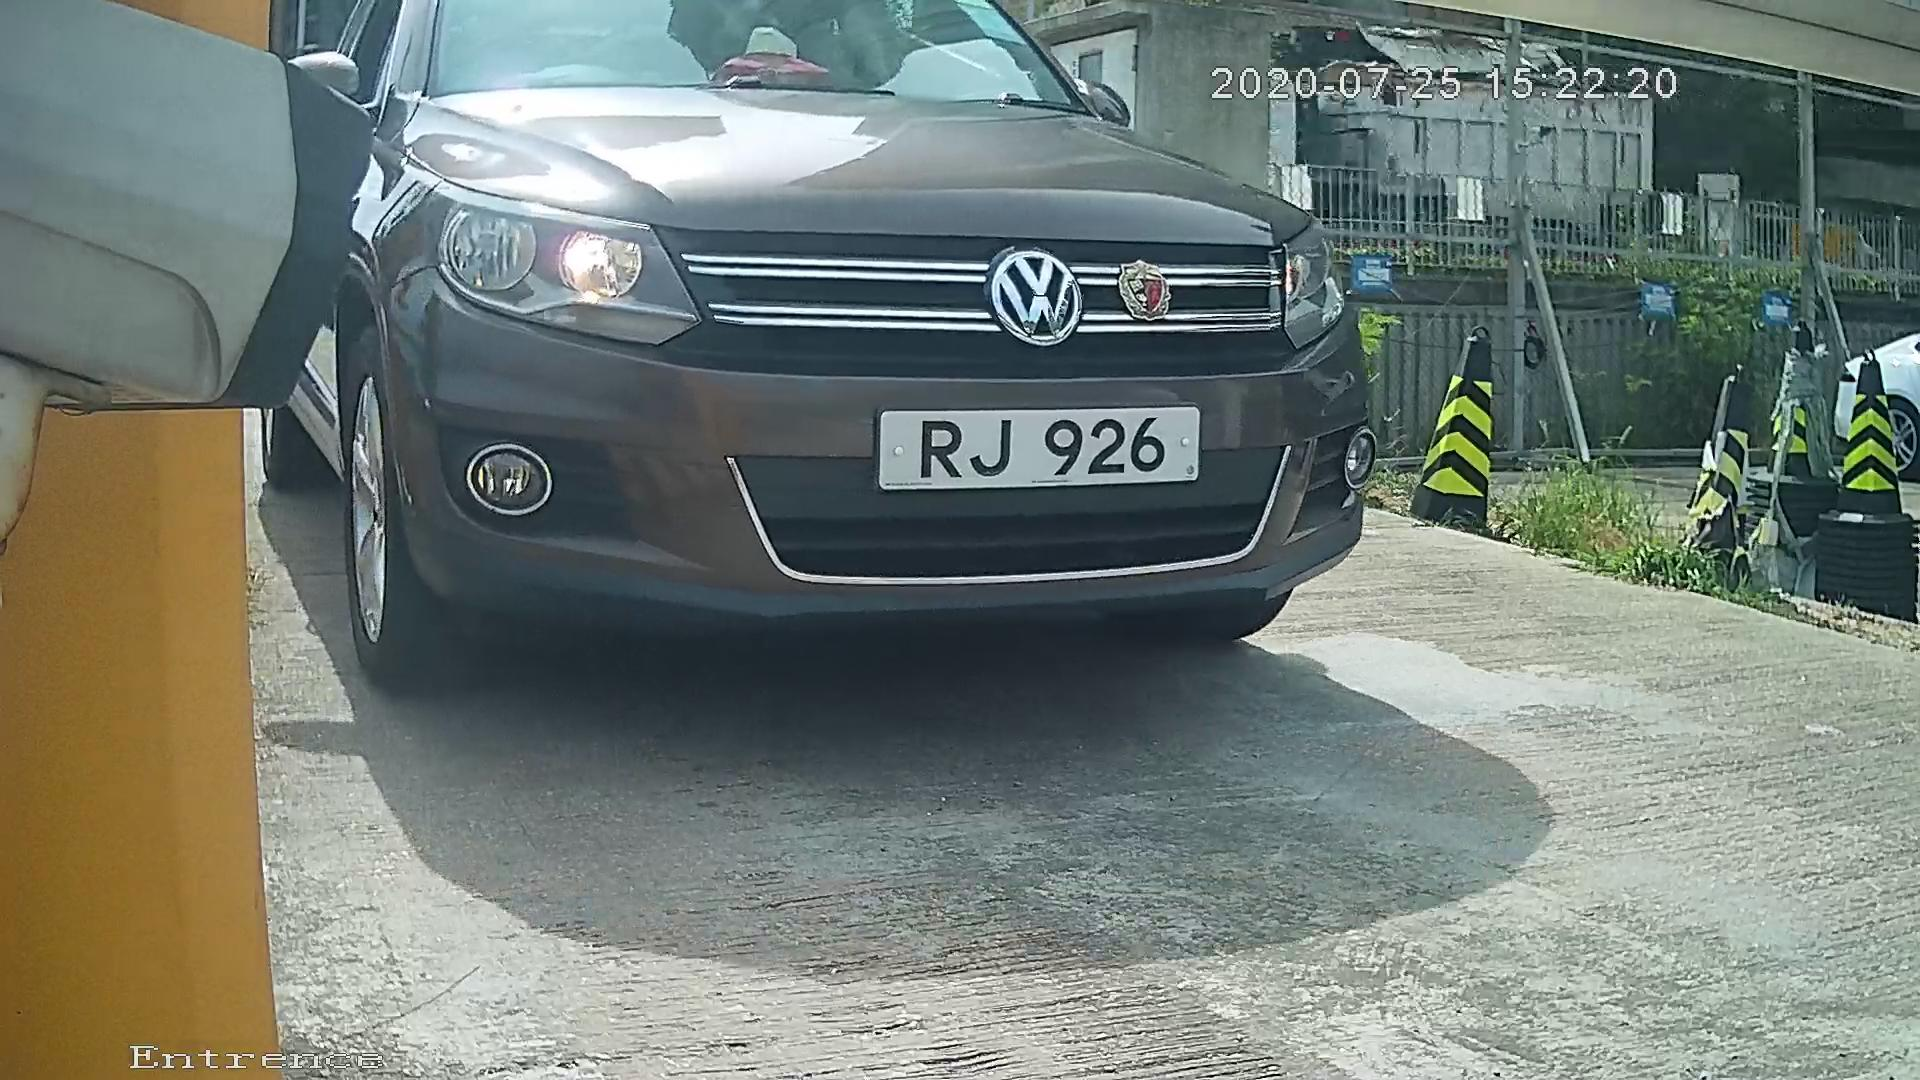License Plate: (832, 396, 1235, 502)
